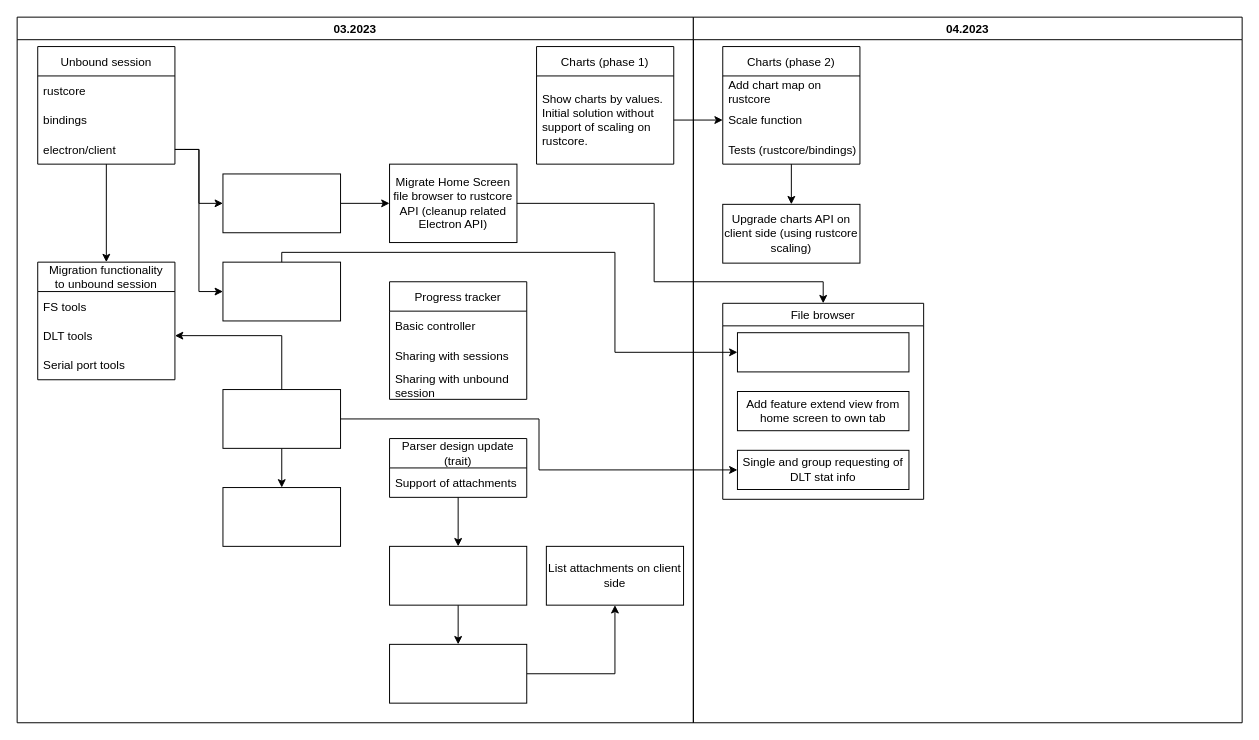
This 1259x740 diagram has some shape labels left out. The shapes that lost their labels are listed below. From the top down, each one's centre as x and y in pixels, then its label:
(x=281, y=203): Folders scanner (for file browser)
(x=281, y=291): Plain text files searcher
(x=822, y=352): Add feature of search (plain text files)
(x=281, y=418): Cancellation support for DLT stat collector
(x=281, y=516): Cancel scanning on client (DLT options tab)
(x=458, y=575): Support scanning attachments for DLT parser
(x=458, y=673): Mapping attachments in the scope of rustcore session
